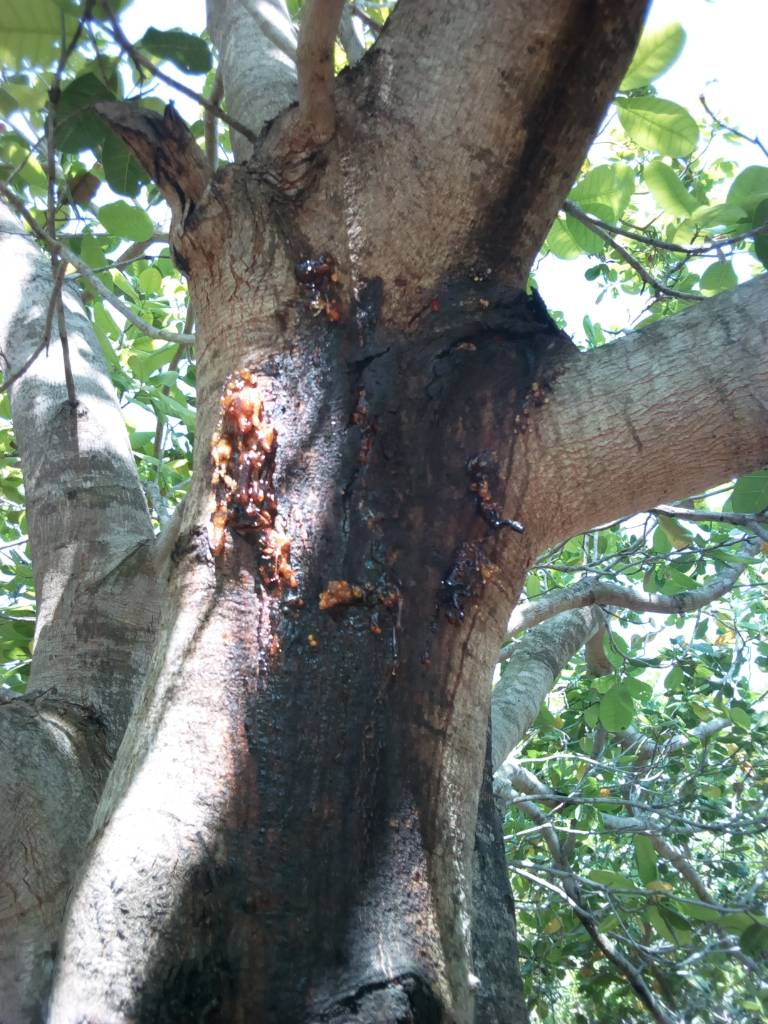Mecocorynus longiceps: (174, 358, 341, 624), (259, 551, 485, 654)
